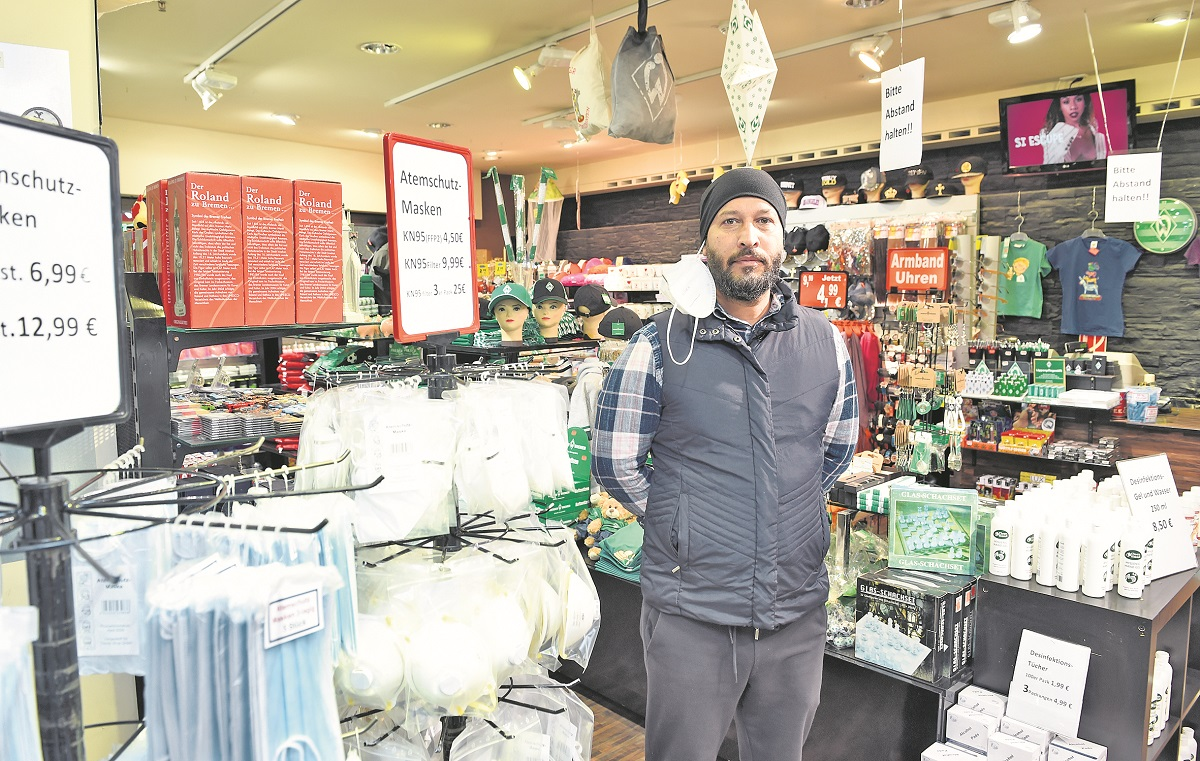without_mask: (720, 209, 777, 303), (1060, 94, 1091, 128)
